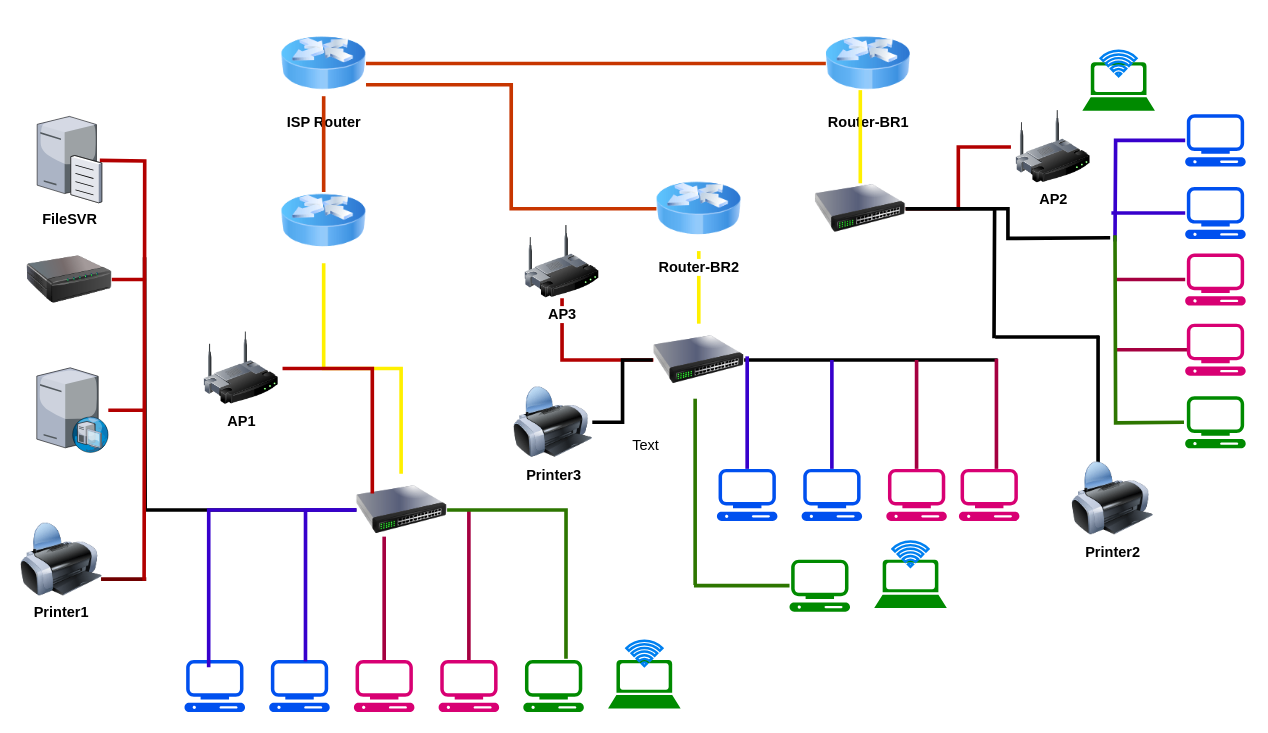
Image size: 1268x733. Some labels were removed from this diagram. The shapes that lost their labels are listed below. From the top down, each one's centre as x and y in pixels, then its label:
At point (323, 220): "Router-HO".
At point (859, 208): "Switch-BR1".
At point (68, 279): "Print SVR".
At point (698, 359): "Switch-BR2".
At point (72, 409): "DHCP SVR".
At point (401, 509): "Switch-HO".
